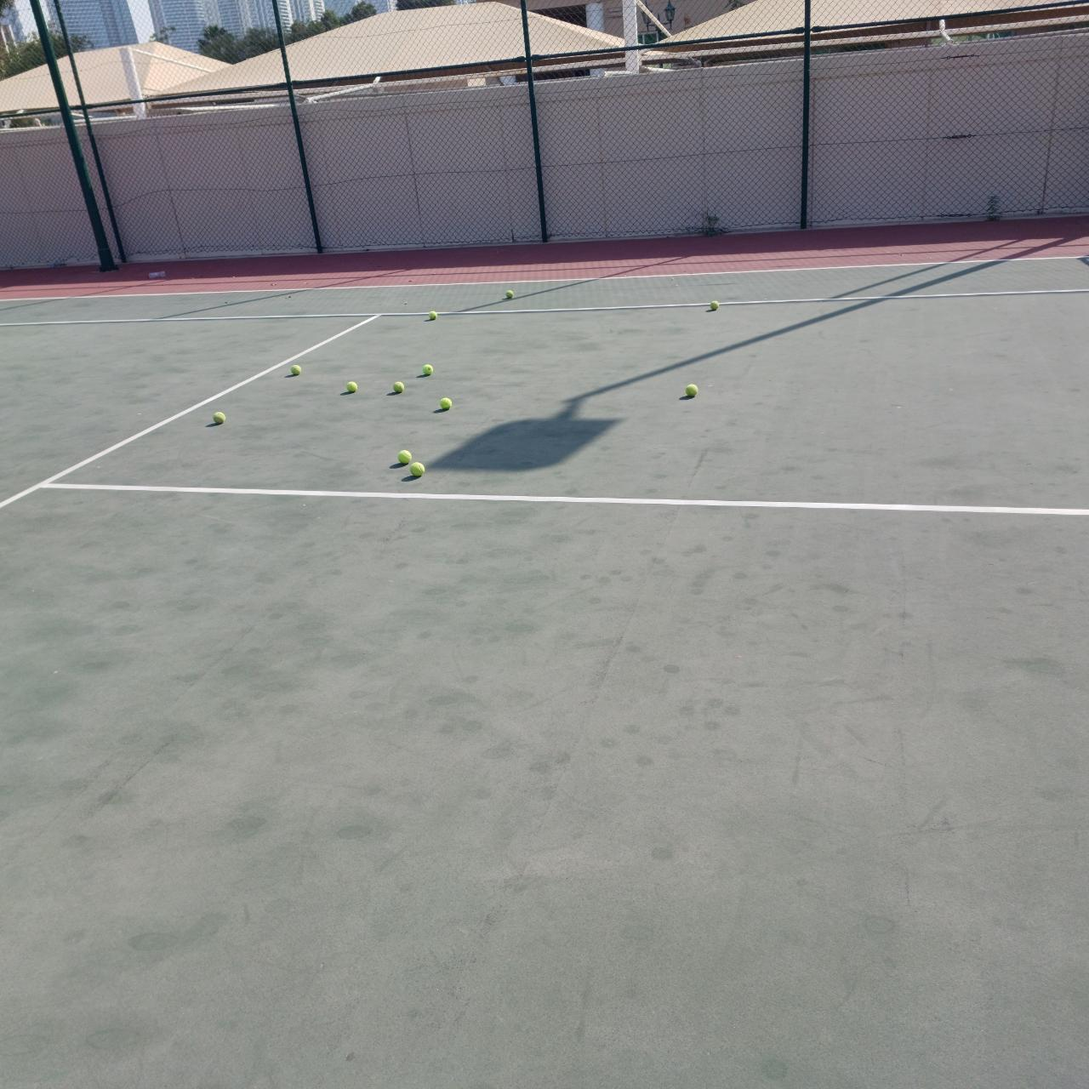tennis-ball: (408, 460, 425, 477), (396, 448, 412, 464), (683, 381, 698, 397), (436, 396, 452, 411), (419, 362, 433, 377), (211, 409, 225, 424), (288, 362, 301, 376), (391, 379, 404, 393), (345, 379, 356, 393), (706, 299, 718, 311), (425, 309, 437, 321), (503, 288, 514, 299)
